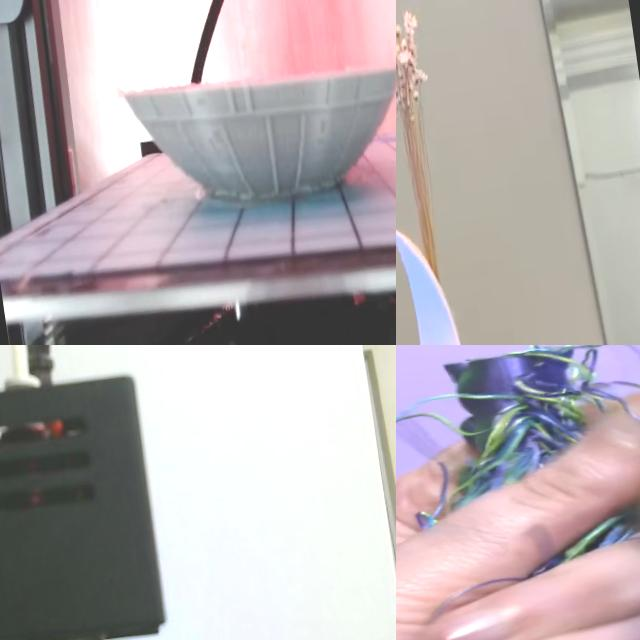spaghetti: (396, 345, 640, 495), (540, 510, 640, 559)
